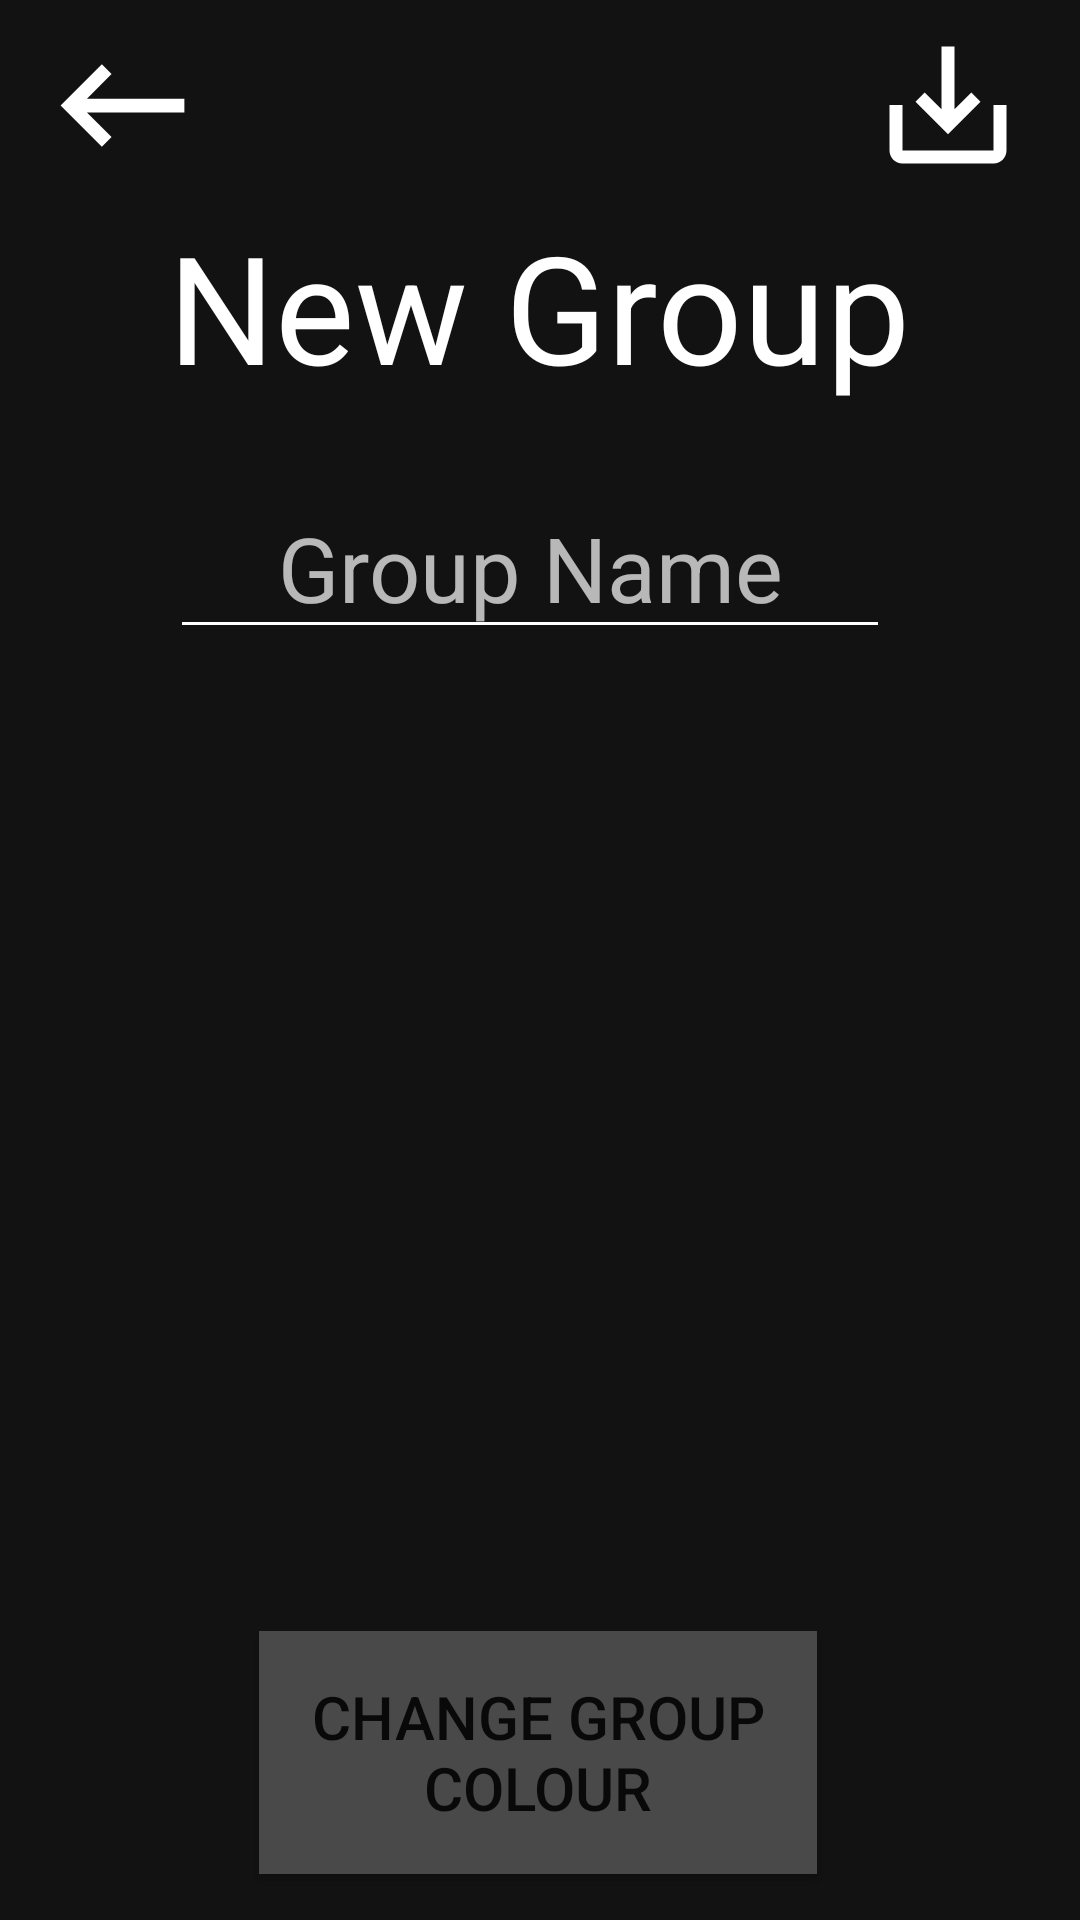

Named icons in this screenshot (1080w x 1920h) and their centers, (x=x, y=y):
back arrow: (x=122, y=105)
save: (x=948, y=105)
